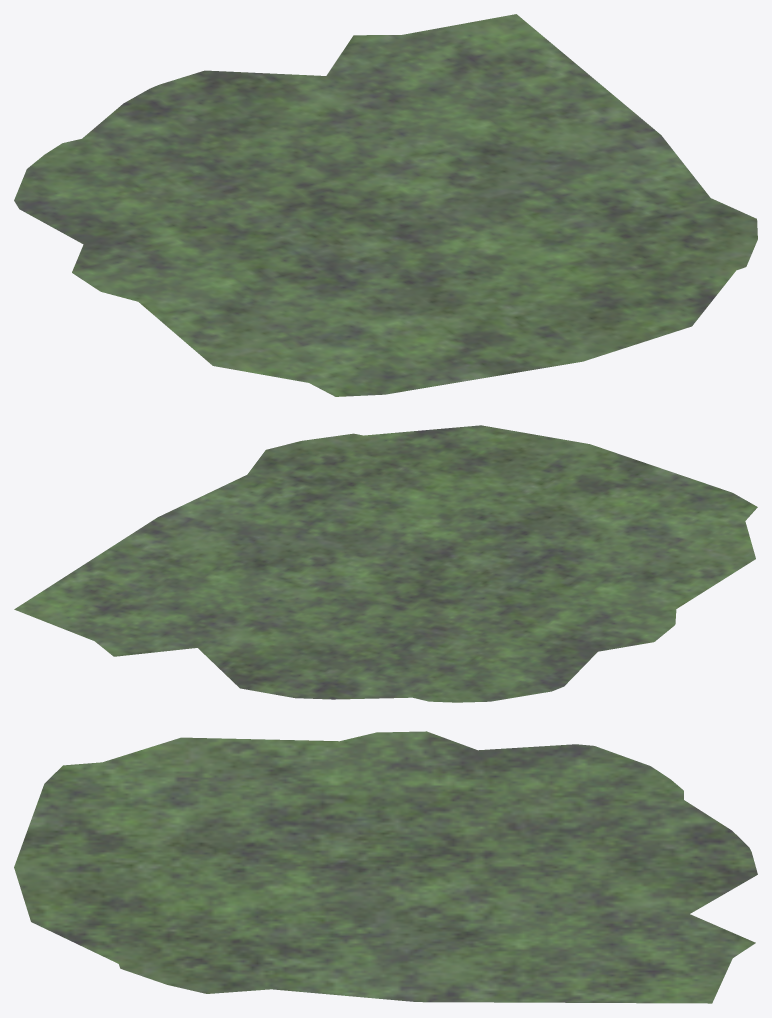
File: ground.obj
3 views of the same model, one above another, from view 1: azimuth 30°, elevation 25°; view 2: azimuth 150°, elevation 25°; view 3: azimuth 270°, elevation 25° (orthographic). The views are drawn at different scales.
Visible parts, largest first — view 1: ground; view 2: ground; view 3: ground.
Boxes of the visible parts, box(x1,y1,x2,y2) form: ground: box(14, 14, 757, 396); ground: box(14, 425, 757, 702); ground: box(14, 731, 757, 1003).
Bounding box in the file's own units: 52403 × 360 × 59931.
1 material, 1 textured.
